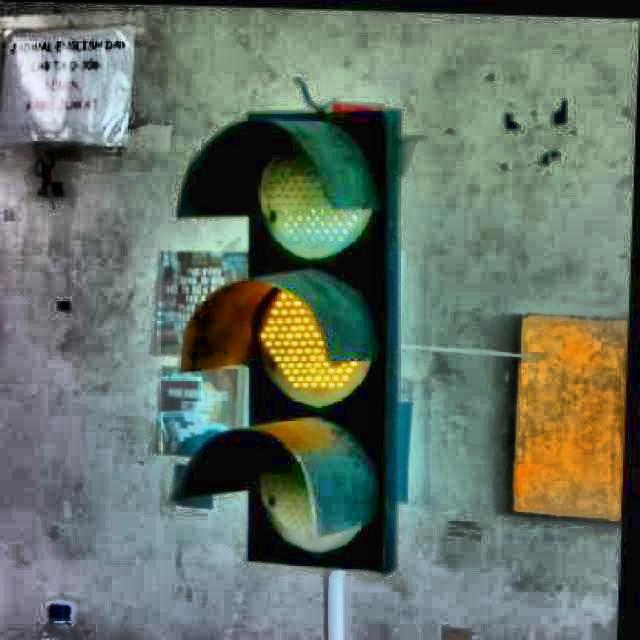yellow: (226, 109, 399, 561)
